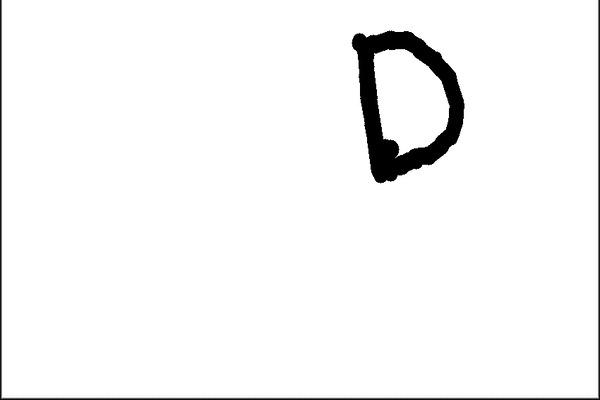D: (345, 14, 470, 186)
